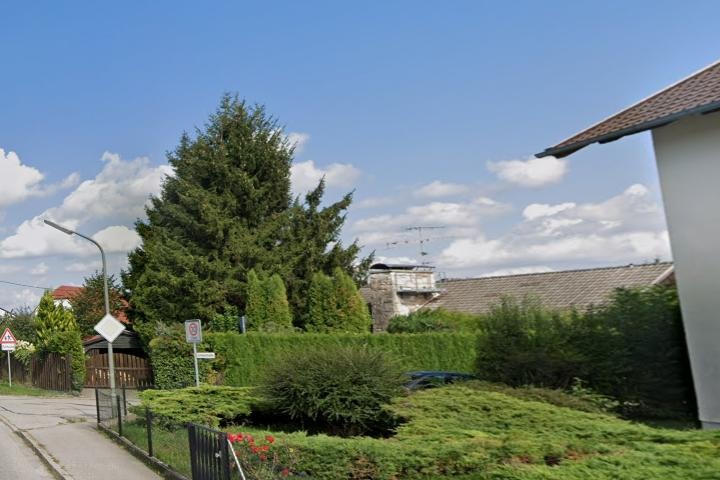traffic_sign: (94, 314, 125, 343), (1, 328, 18, 345), (187, 322, 198, 337)
